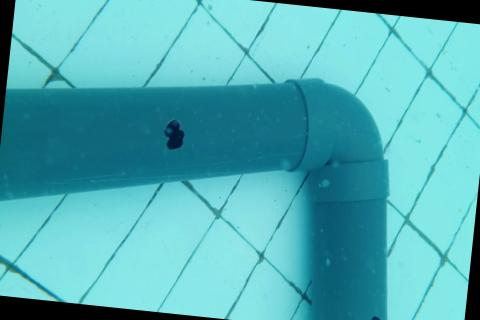kebocoran: (163, 116, 187, 152), (366, 314, 382, 320)
